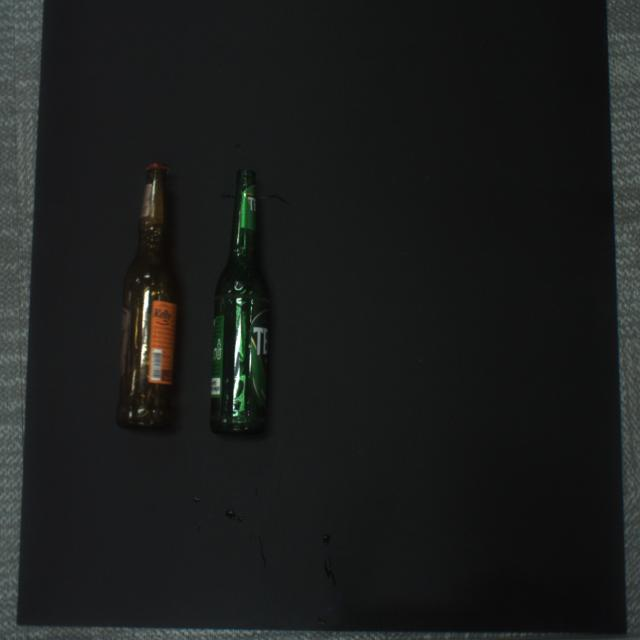beer-bottle: (116, 166, 177, 430), (211, 170, 270, 431)
